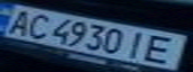0: (103, 26, 127, 56)
3: (84, 21, 106, 53)
4: (45, 16, 72, 46)
9: (63, 19, 87, 48)
A: (0, 7, 39, 36)
C: (21, 11, 54, 39)
E: (139, 33, 187, 65)
I: (124, 29, 154, 61)
